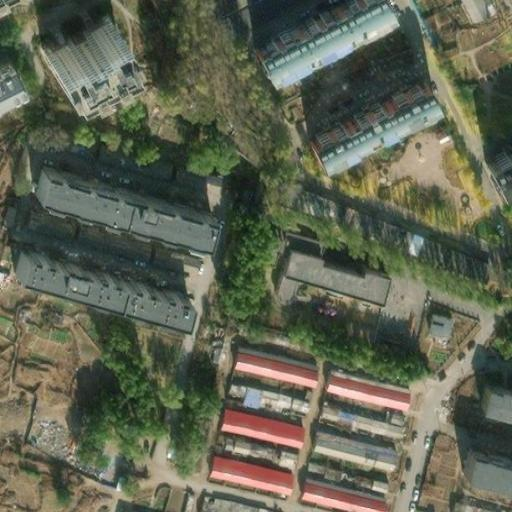building: (273, 174, 481, 280), (303, 68, 426, 156), (314, 99, 435, 176), (267, 245, 382, 302), (7, 241, 119, 297), (34, 14, 115, 79), (317, 369, 406, 423), (25, 163, 121, 212), (288, 467, 379, 512), (114, 185, 201, 232), (301, 425, 390, 469), (199, 448, 284, 491), (204, 428, 289, 468), (309, 399, 397, 437), (112, 273, 184, 317), (295, 454, 382, 490), (213, 401, 295, 438), (223, 346, 308, 379), (252, 221, 312, 262), (413, 428, 451, 491), (228, 380, 299, 411), (459, 455, 512, 495), (193, 490, 272, 512), (220, 183, 246, 246), (479, 132, 512, 176), (474, 388, 512, 423), (441, 494, 512, 512), (419, 306, 449, 333), (214, 261, 230, 285), (111, 504, 143, 512)
